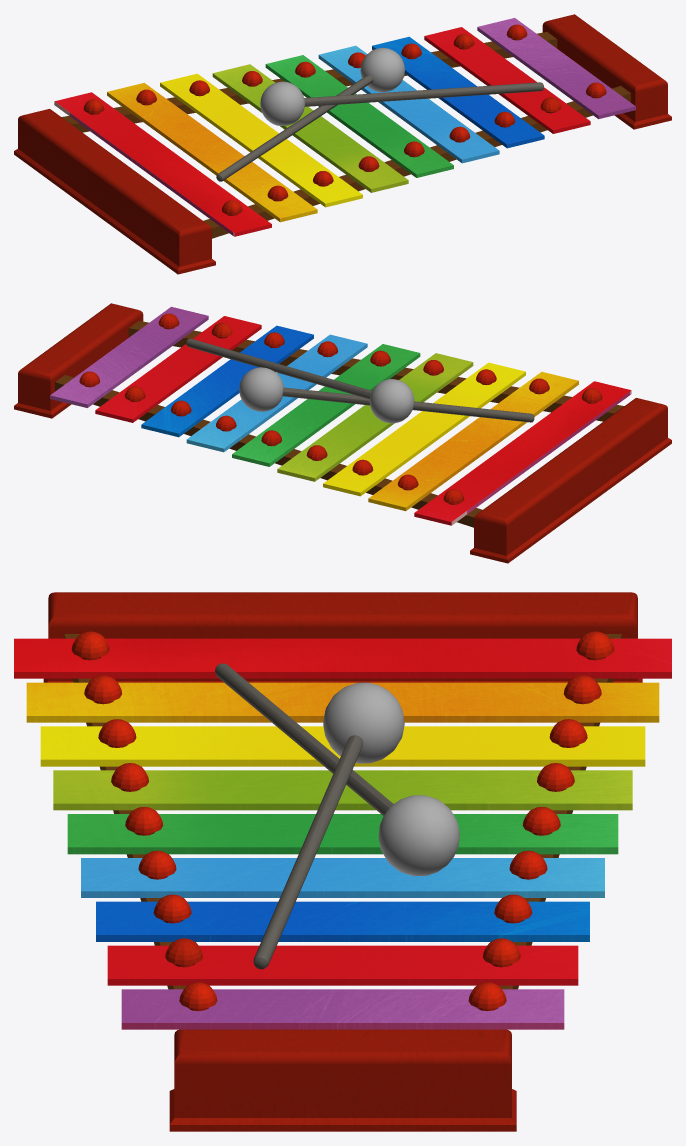
File: glockenspiel_4.fbx
The picture shows the model from 3 angles, top to bottom: view 1: azimuth 30°, elevation 25°; view 2: azimuth 150°, elevation 25°; view 3: azimuth 270°, elevation 25°; orthographic projection. The views are drawn at different scales.
Parts seen in each view (by area): view 1: keys, body, club1, club2; view 2: keys, body, club2, club1; view 3: keys, body, club1, club2.
Part boxes in pixels (x1,y1,x2,y2): keys: (54,18,635,236); body: (14,14,671,274); club1: (260,81,543,125); club2: (216,47,404,181); keys: (50,306,631,525); body: (14,303,671,563); club2: (239,367,534,422); club1: (186,338,414,423); keys: (14,638,671,1029); body: (43,592,642,1131); club1: (253,682,404,969); club2: (215,663,459,876).
Size of the model in its own units: 16.11 by 2.32 by 9.51.
Materials: 3 (3 with a texture image).
